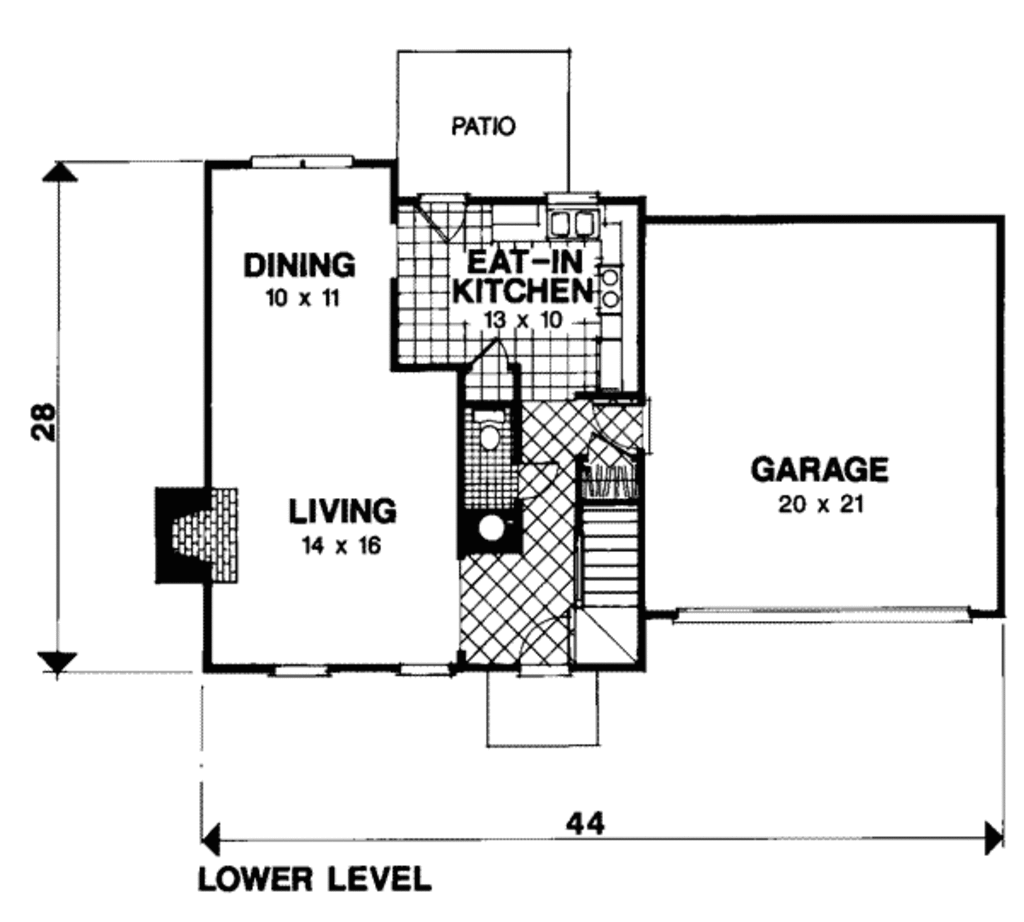stairs: (575, 498, 644, 672)
twin_sink: (543, 204, 614, 238)
windows: (245, 153, 359, 174), (262, 658, 333, 685), (392, 658, 458, 680)
